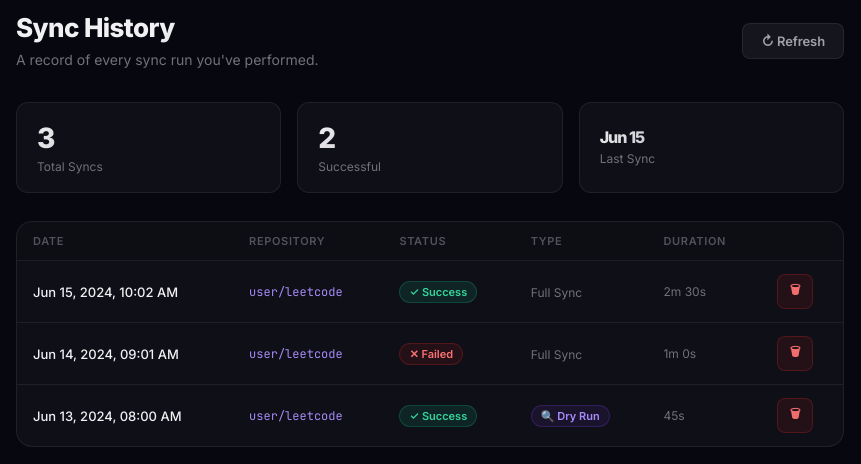
Test: HistorySection — delete › clicking delete removes the entry from the list
Click the button titled "delete" in the row of "Jun 14, 2024, 09:01 AM" at (795, 354), box top-left (777, 336), bottom-right (813, 371)
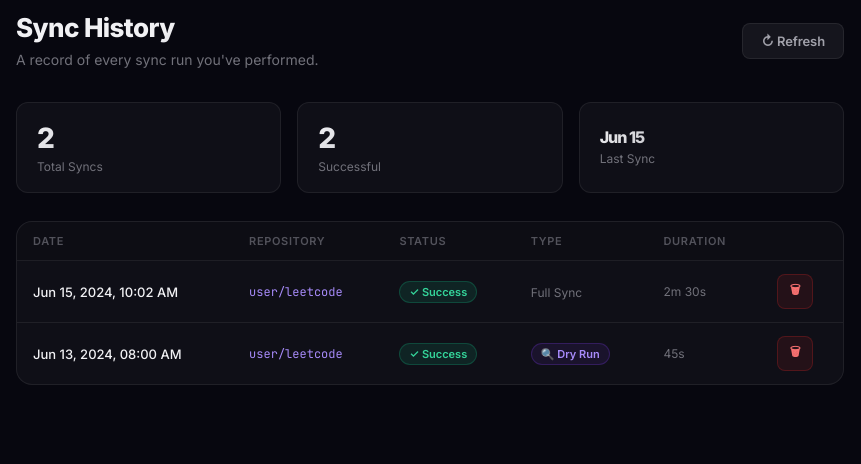
Result: the text "user/leetcode" is shown 2 times at top-left (249, 284), bottom-right (343, 300); top-left (249, 346), bottom-right (343, 362)
